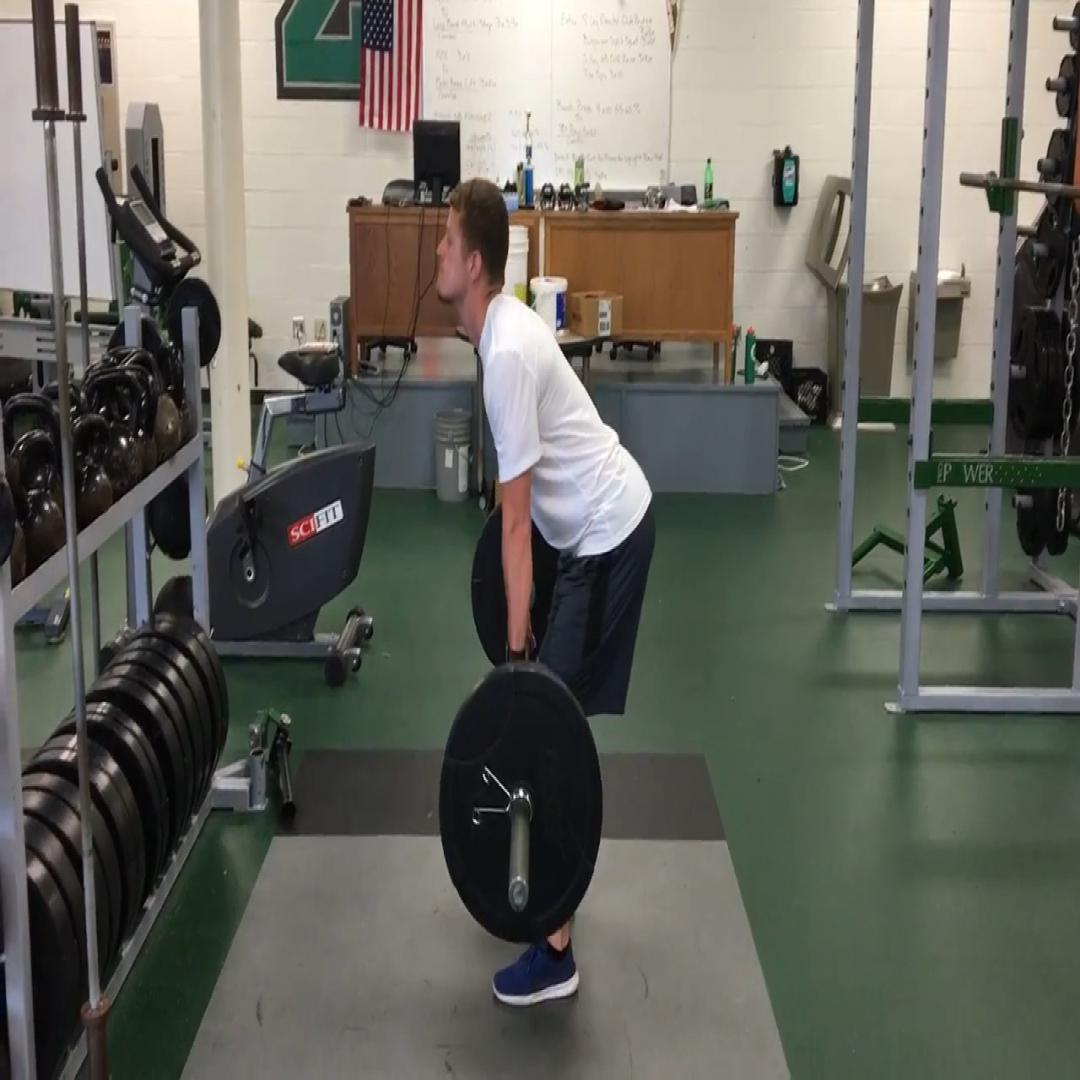Bar: (508, 873, 530, 915)
Barbell: (437, 669, 604, 945)
